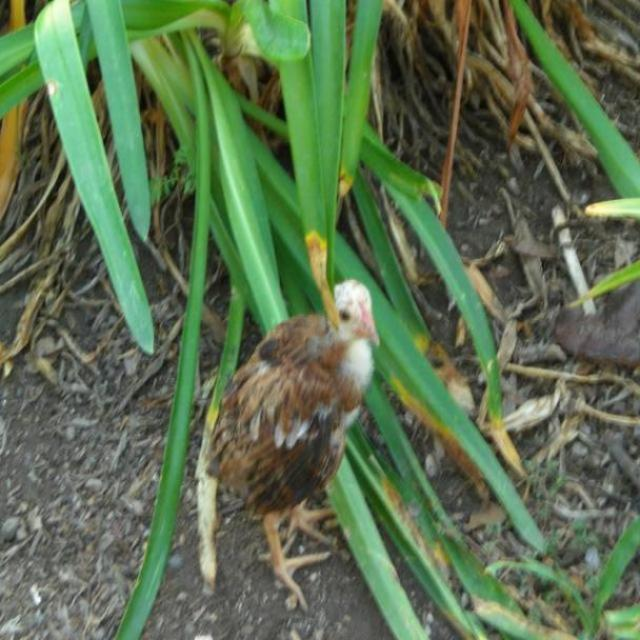Chicken: (195, 281, 373, 612)
